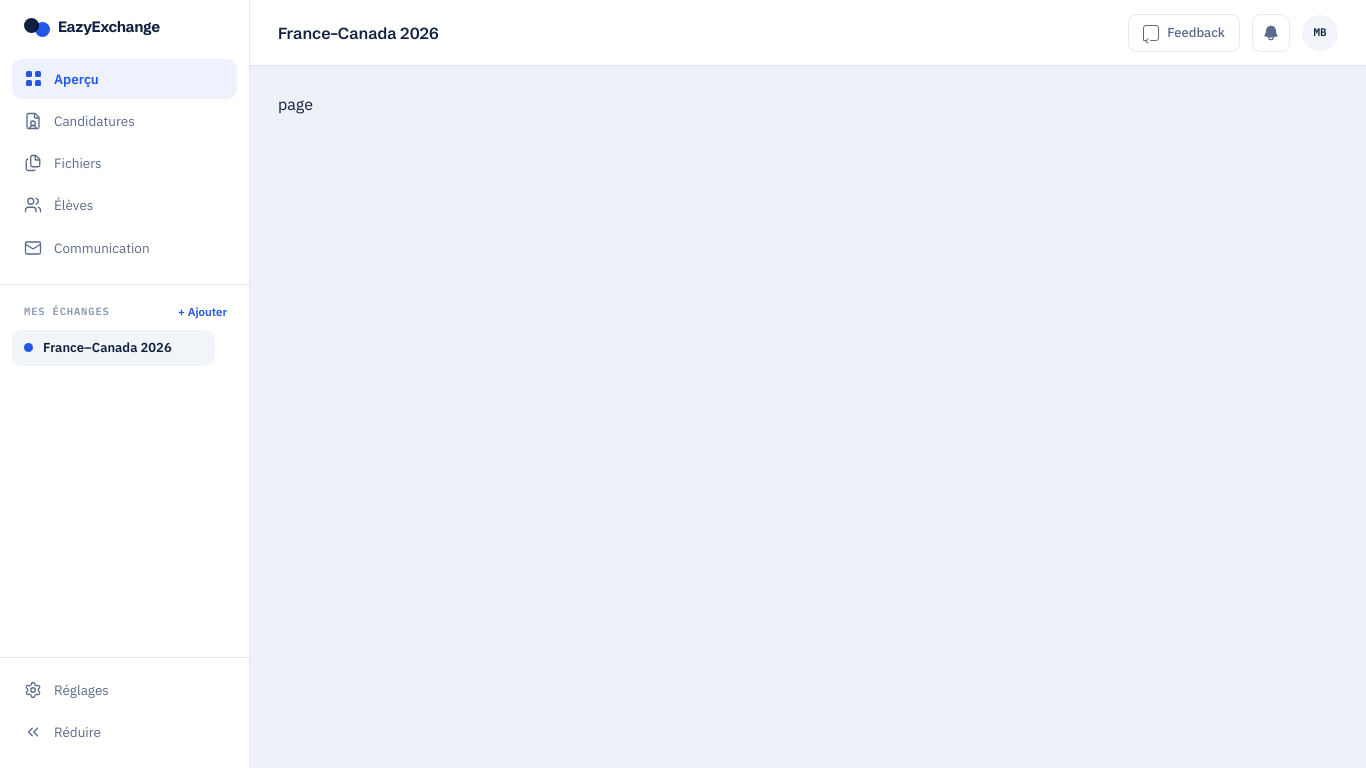
OrganizerShell › profile menu contains only Se déconnecter, not Réglages
Click the button with aria-label "Compte" at (1320, 32), box left=1302, top=14, right=1338, bottom=50
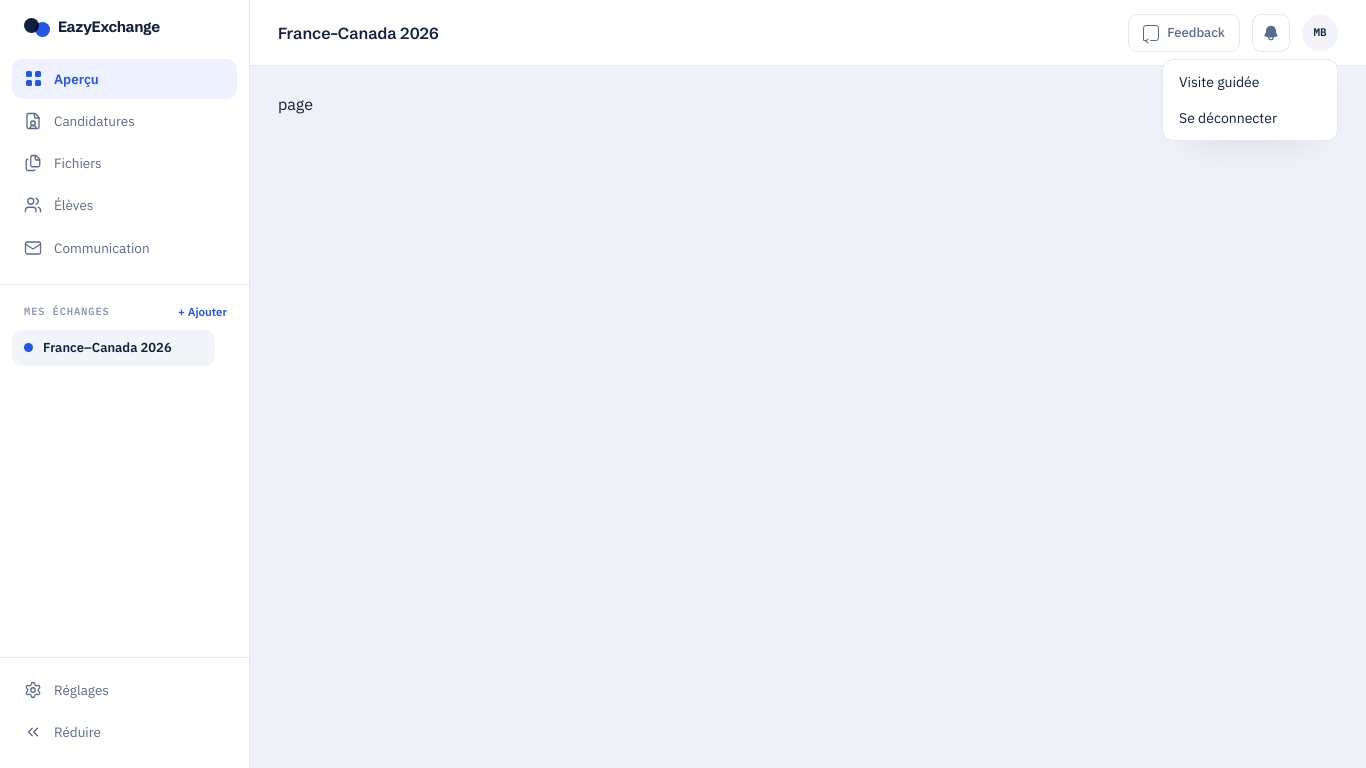
Expected: the button "Se déconnecter" is shown, left=1167, top=100, right=1333, bottom=136
